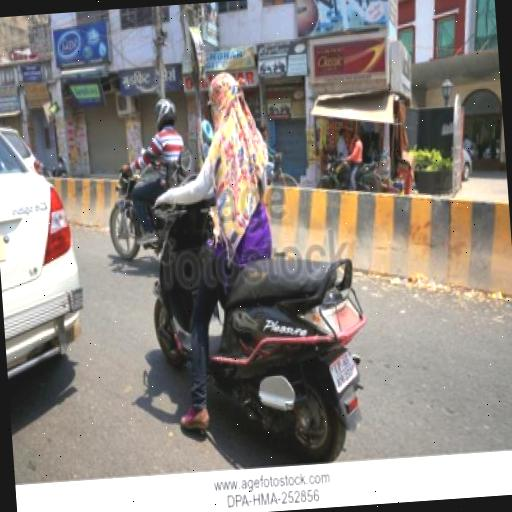helmet: (88, 81, 204, 230)
no helmet: (151, 52, 281, 430)
